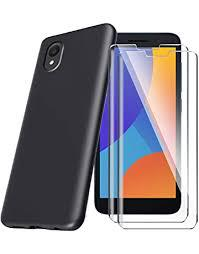Smartphone: (2, 22, 111, 233), (87, 32, 179, 222)
